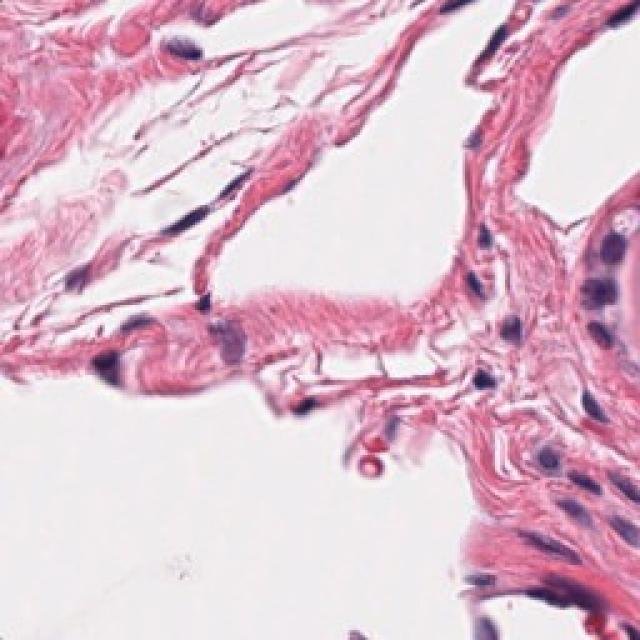normal: (577, 305, 633, 363), (580, 260, 633, 317), (590, 225, 637, 277)
